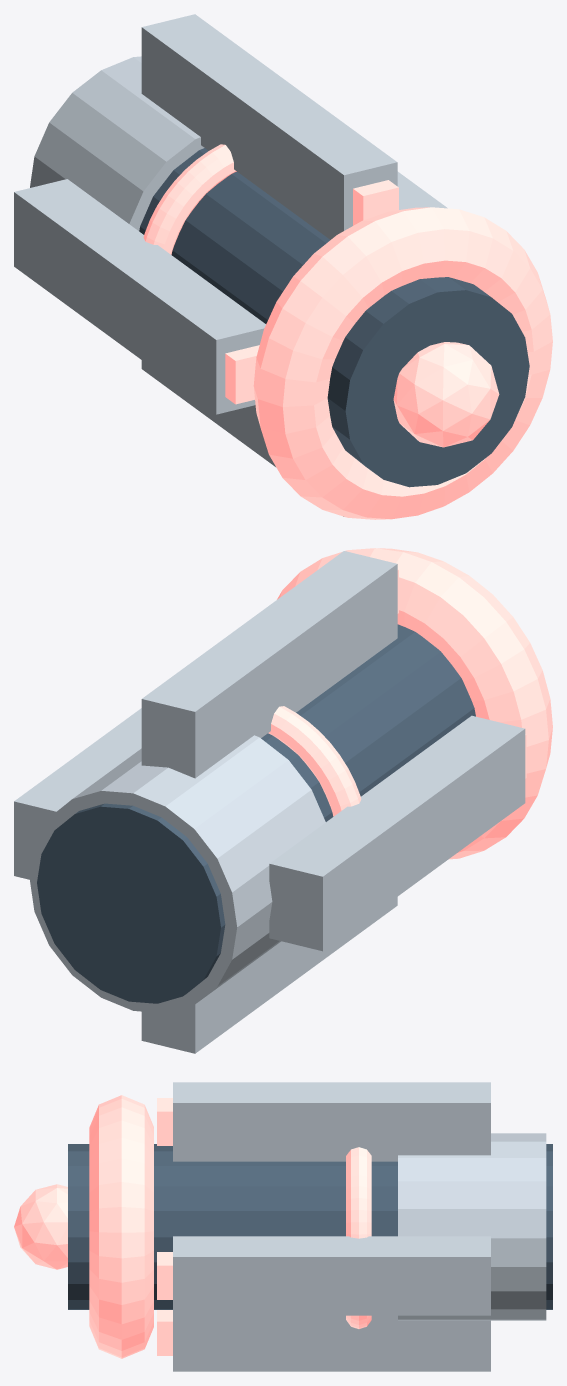
The model's file is arc-q.glb.
3 renders of one model, top to bottom at view 1: azimuth 30°, elevation 25°; view 2: azimuth 150°, elevation 25°; view 3: azimuth 270°, elevation 25°, orthographic. The views are drawn at different scales.
Visible parts, largest first — view 1: Emitter3, Barrel0, ArmorFin9, ArmorFin7, Housing1, Muzzle4, Capacitor13, ArmorFin11, Lumen10, Lumen8, ArmorFin5; view 2: Barrel0, ArmorFin9, ArmorFin7, Housing1, Emitter3, ArmorFin11, ArmorFin5, Capacitor13; view 3: ArmorFin5, ArmorFin7, Barrel0, Housing1, ArmorFin11, Emitter3, Muzzle4, Capacitor13, Lumen6, Lumen8, Lumen12.
Boxes of the visible parts, bbox=[...] form: Emitter3: bbox=[253, 207, 552, 519]; Barrel0: bbox=[139, 148, 529, 487]; ArmorFin9: bbox=[14, 179, 265, 414]; ArmorFin7: bbox=[141, 14, 397, 239]; Housing1: bbox=[30, 56, 204, 230]; Muzzle4: bbox=[393, 342, 499, 447]; Capacitor13: bbox=[143, 144, 236, 254]; ArmorFin11: bbox=[141, 360, 343, 516]; Lumen10: bbox=[225, 345, 259, 404]; Lumen8: bbox=[353, 180, 398, 225]; ArmorFin5: bbox=[397, 171, 447, 209]; Barrel0: bbox=[37, 624, 475, 1003]; ArmorFin9: bbox=[269, 715, 525, 951]; ArmorFin7: bbox=[141, 551, 397, 778]; Housing1: bbox=[29, 735, 325, 1013]; Emitter3: bbox=[277, 548, 552, 859]; ArmorFin11: bbox=[141, 897, 397, 1053]; ArmorFin5: bbox=[14, 708, 141, 879]; Capacitor13: bbox=[268, 706, 361, 816]; ArmorFin5: bbox=[173, 1236, 490, 1315]; ArmorFin7: bbox=[173, 1082, 490, 1161]; Barrel0: bbox=[68, 1144, 552, 1309]; Housing1: bbox=[398, 1133, 546, 1320]; ArmorFin11: bbox=[173, 1315, 490, 1371]; Emitter3: bbox=[89, 1095, 153, 1358]; Muzzle4: bbox=[14, 1184, 67, 1269]; Capacitor13: bbox=[346, 1147, 371, 1328]; Lumen6: bbox=[157, 1252, 172, 1299]; Lumen8: bbox=[157, 1098, 172, 1145]; Lumen12: bbox=[157, 1310, 172, 1355].
Size of the model in its own units: 1.04 by 1.1 by 2.
